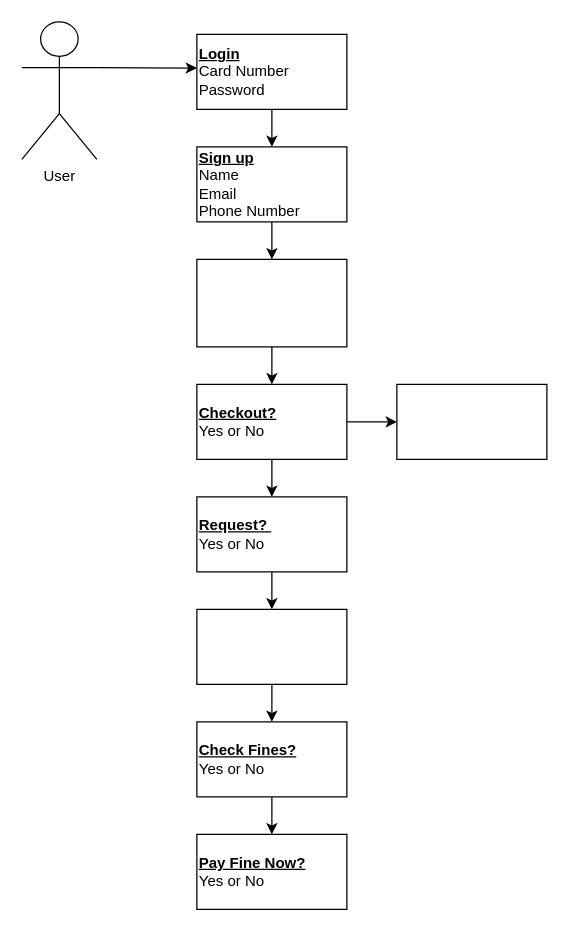
The diagram is 569 pixels wide and 931 high, and some of its shapes have lost their labels. Each missing label, with the centre of its shape:
"Search Book Title, Genre, Rating, Year, Price, Number of Copies, New Releases" goes at [271,302].
"See How Long You have Left before item is due? Yes or No" goes at [471,421].
"See How Long Your Wait Will Be? Yes or No" goes at [271,646].
